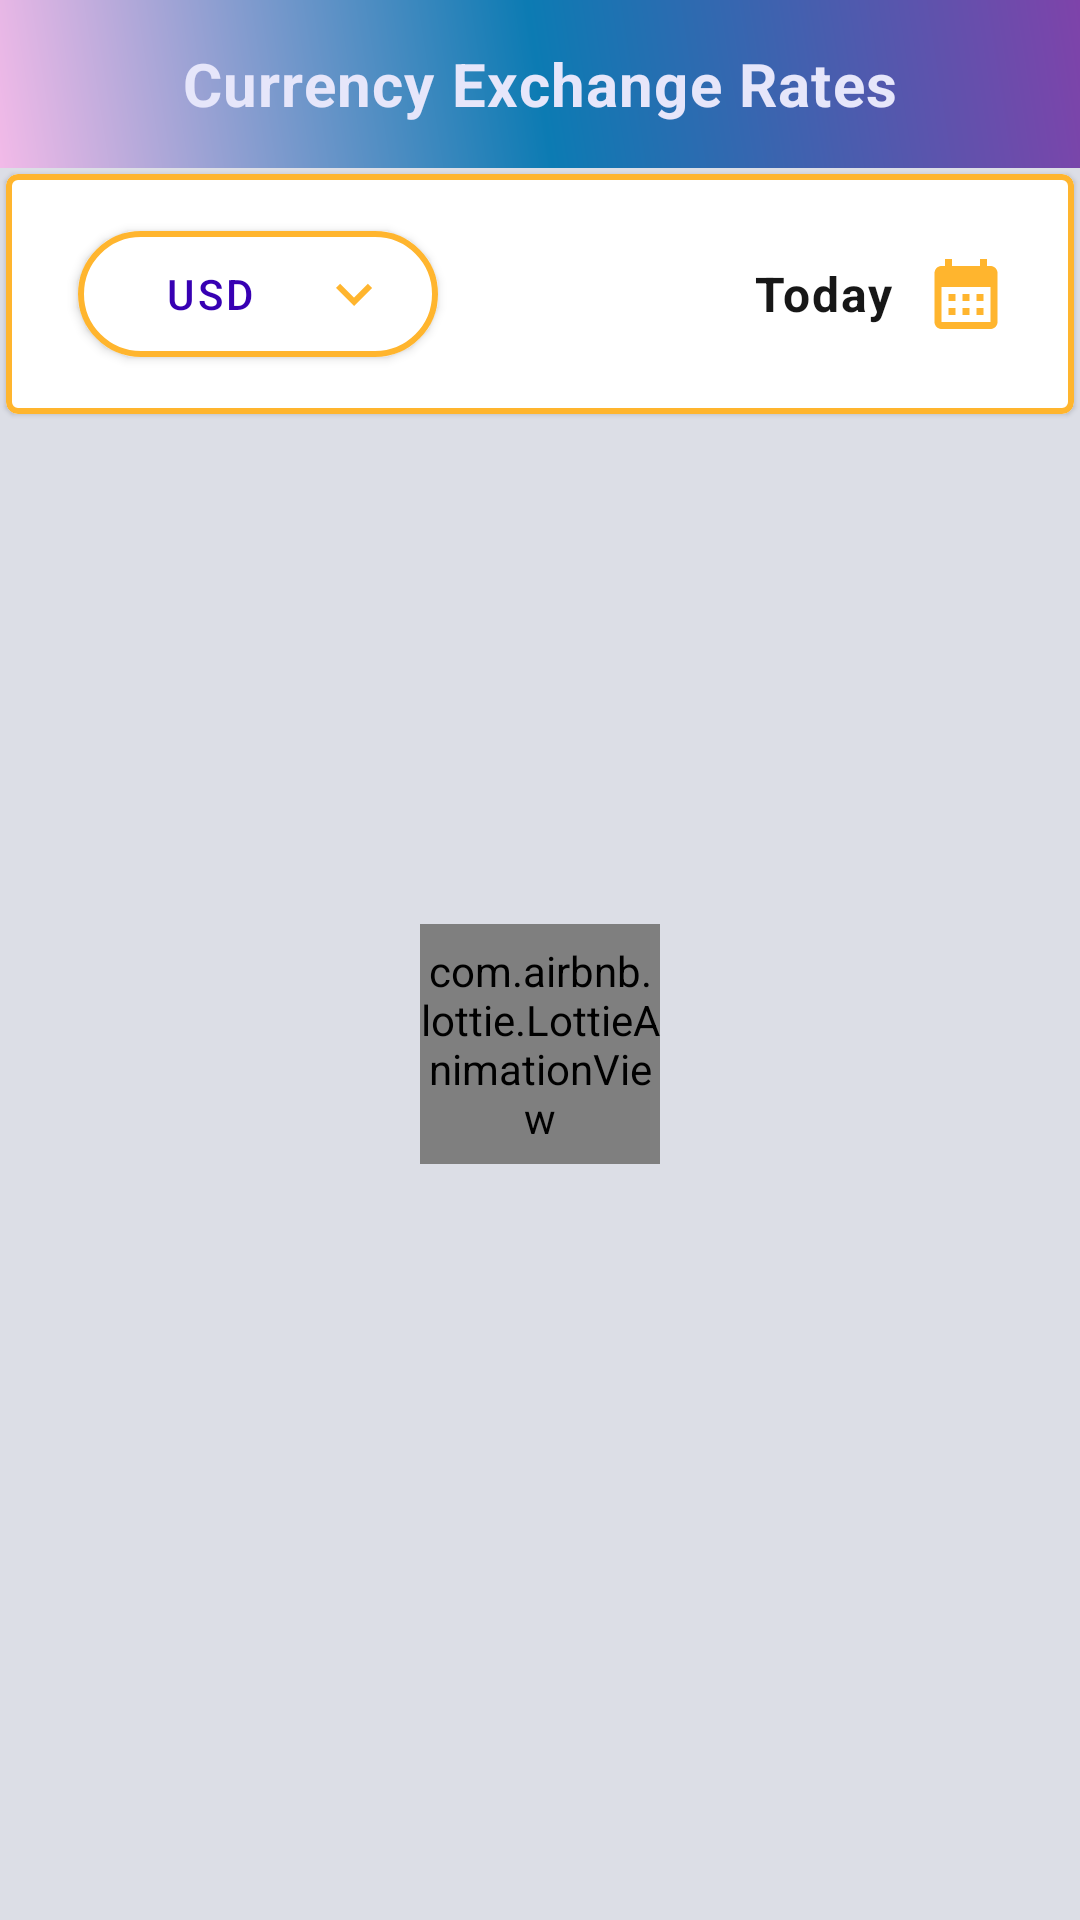

Screen size 1080x1920. Icon name, then its center in pixels as (x,y):
calendar: (966,294)
